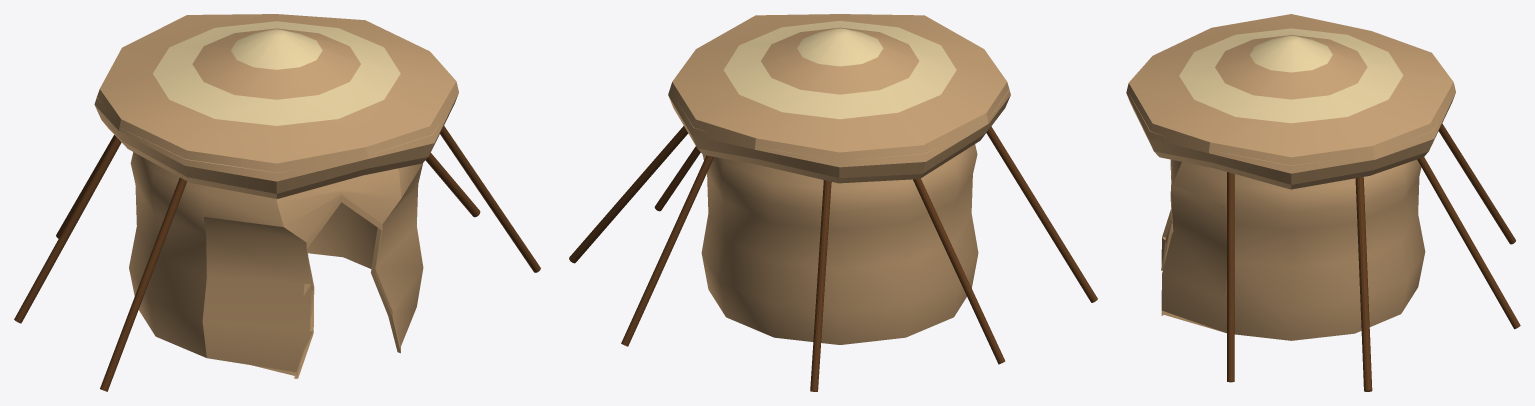
Rendered from Tent.fbx.
3 views of the same model, side by side, from view 1: azimuth 30°, elevation 25°; view 2: azimuth 150°, elevation 25°; view 3: azimuth 270°, elevation 25° (orthographic). The views are drawn at different scales.
Parts seen in each view (by area): view 1: Tent; view 2: Tent; view 3: Tent.
Boxes of the visible parts, bbox=[...] form: Tent: bbox=[14, 14, 540, 391]; Tent: bbox=[569, 14, 1097, 391]; Tent: bbox=[1126, 14, 1520, 391].
Bounding box in the file's own units: 520 × 296 × 417.
